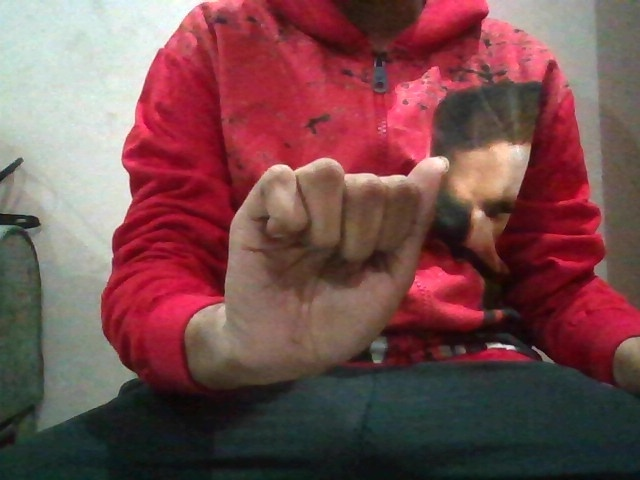A: (211, 148, 455, 386)
